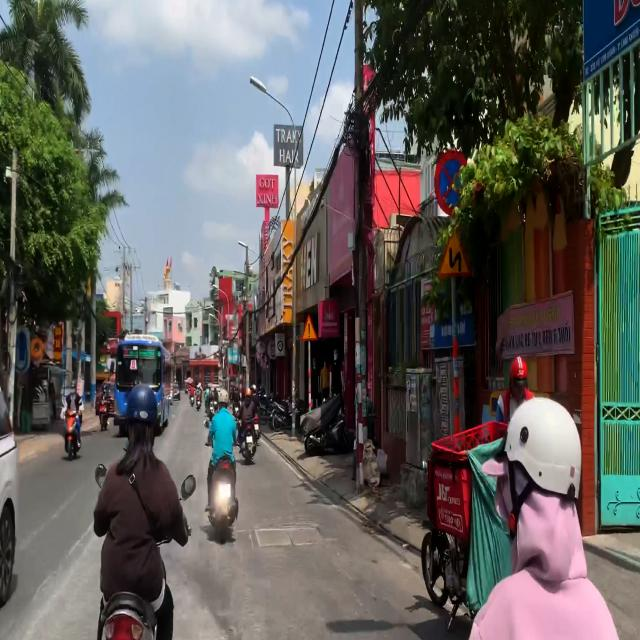Cam dung va do: (434, 147, 469, 216)
Nguy hiem: (439, 220, 473, 278), (300, 312, 319, 343)
